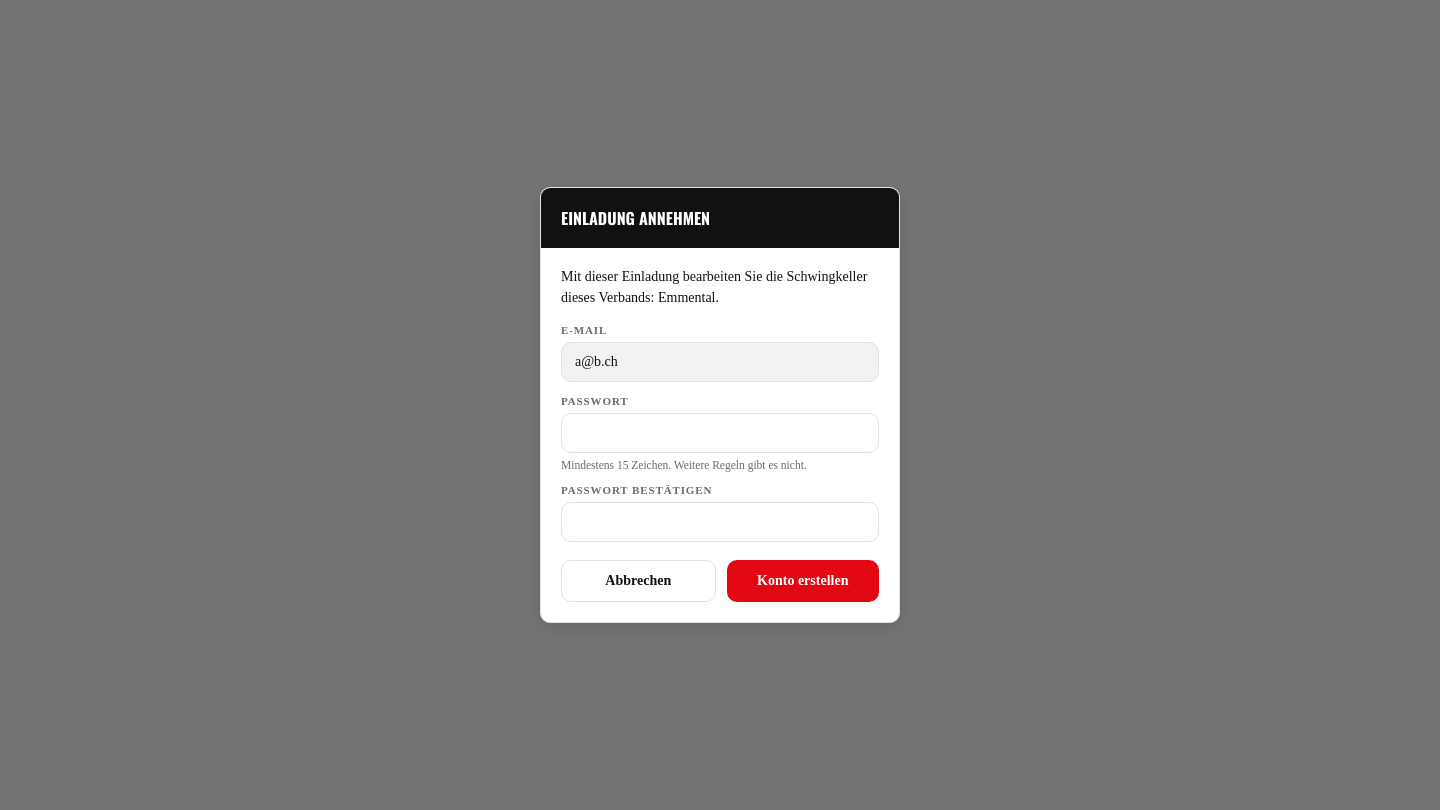
InviteDialog › shows the message for a rateLimit failure and keeps the form
This screenshot has width=1440, height=810.
Type "a-long-enough-pw" into the password field labelled "Passwort" at (720, 433), box [561,413,879,453]
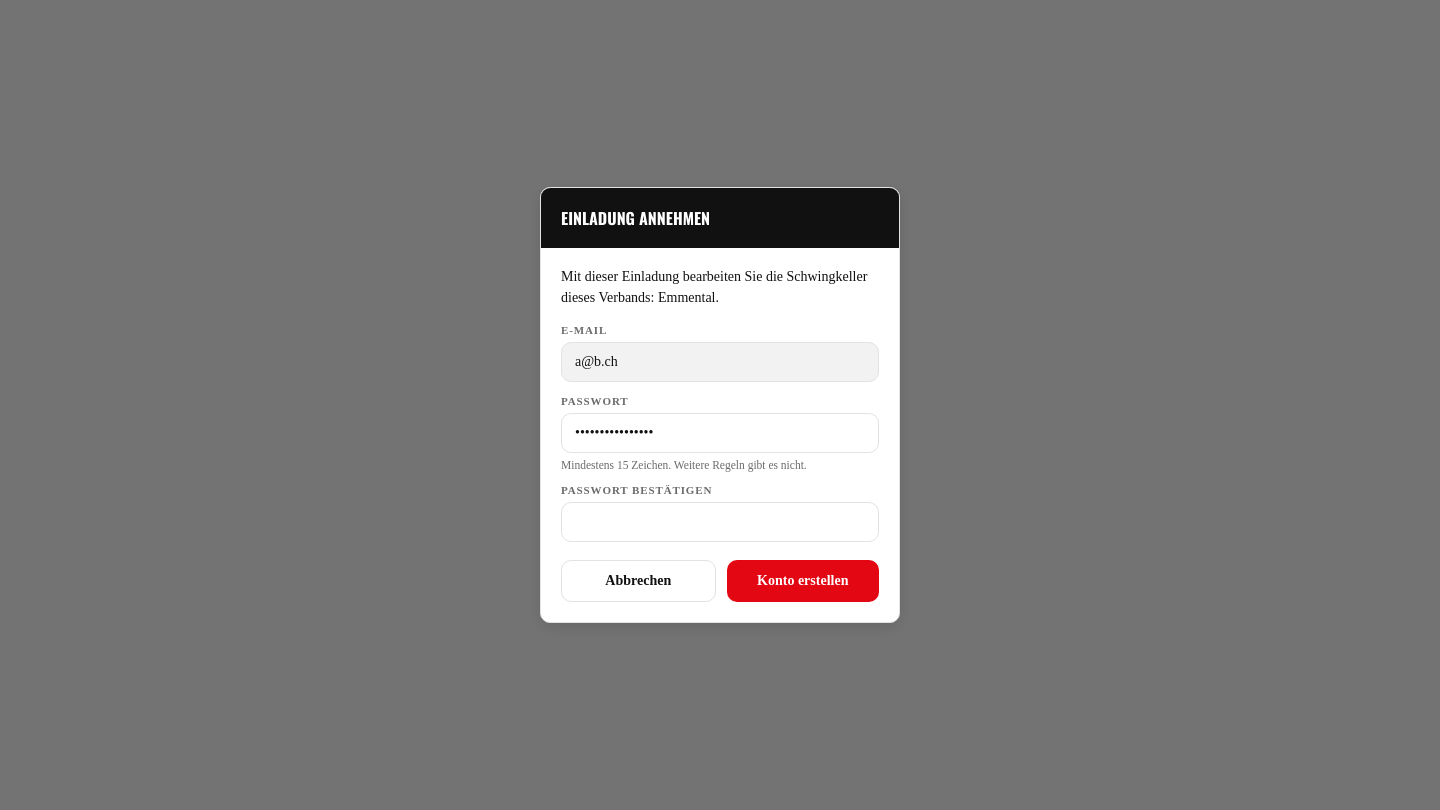
Type "a-long-enough-pw" into the password field labelled "Passwort bestätigen" at (720, 522), box [561,502,879,542]
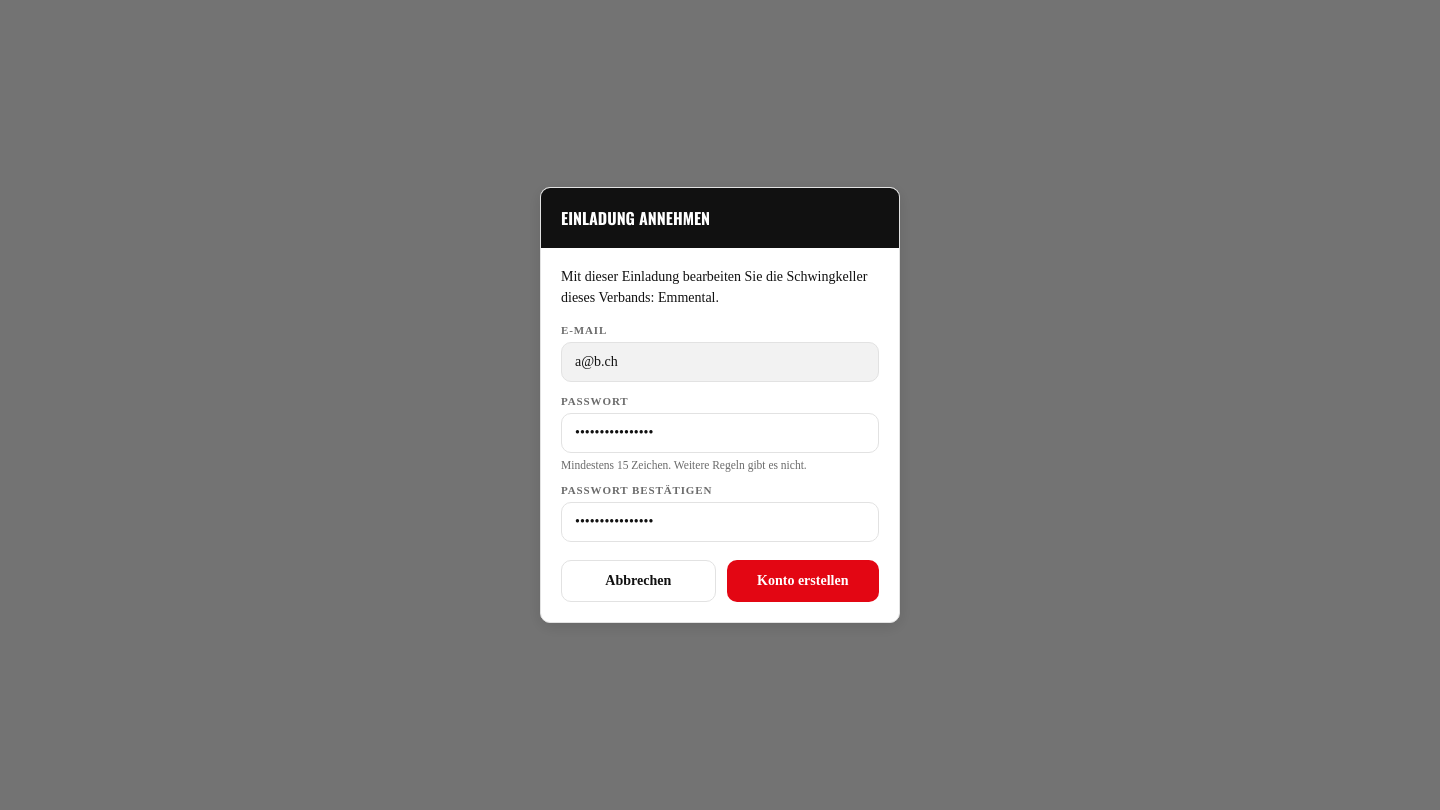
Click the button "Konto erstellen" at (803, 581), box [726,560,879,602]
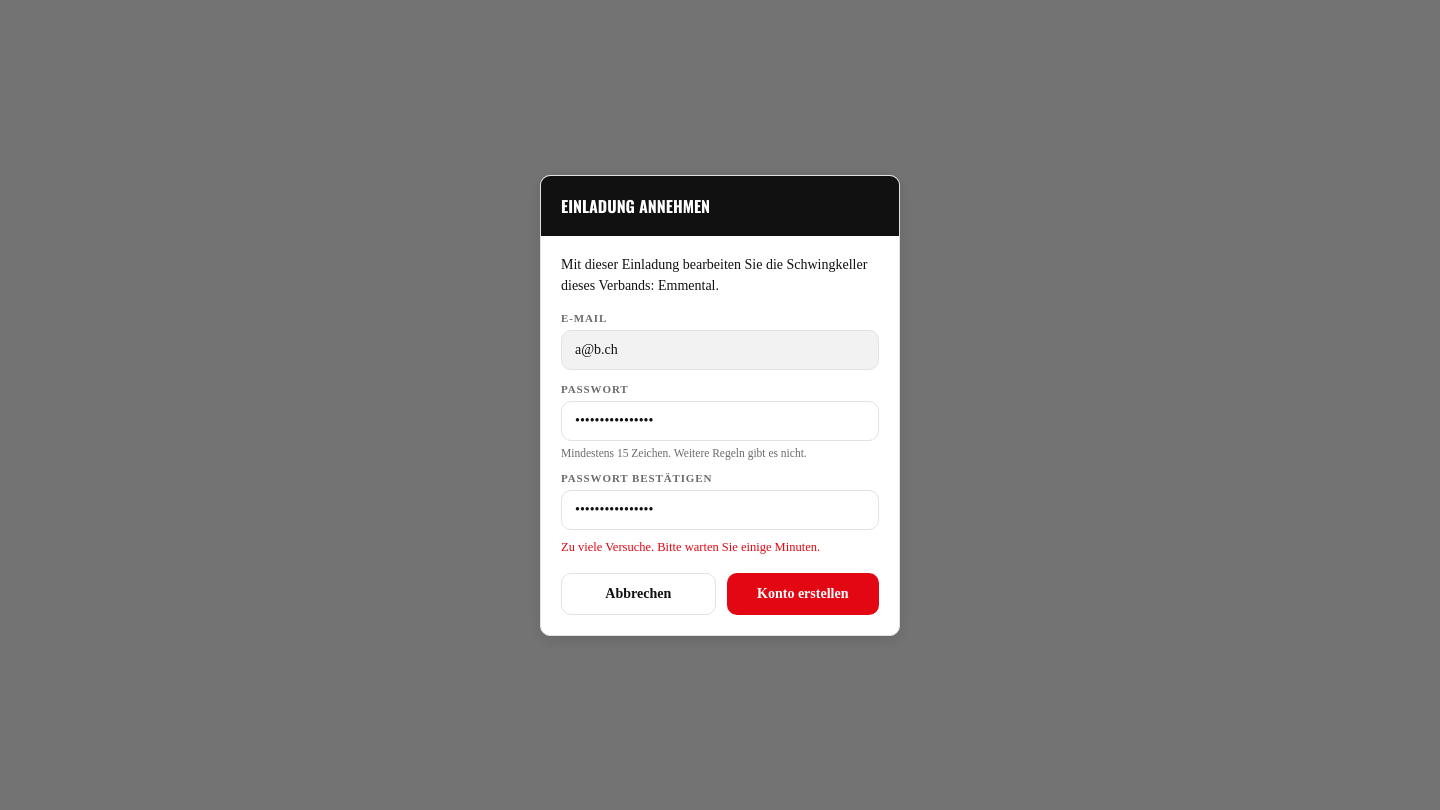
Expected: the button "Konto erstellen" is enabled, [726,572,879,614]
Result: the message reads "Zu viele Versuche. Bitte warten Sie einige Minuten." at [561,540,820,554]
